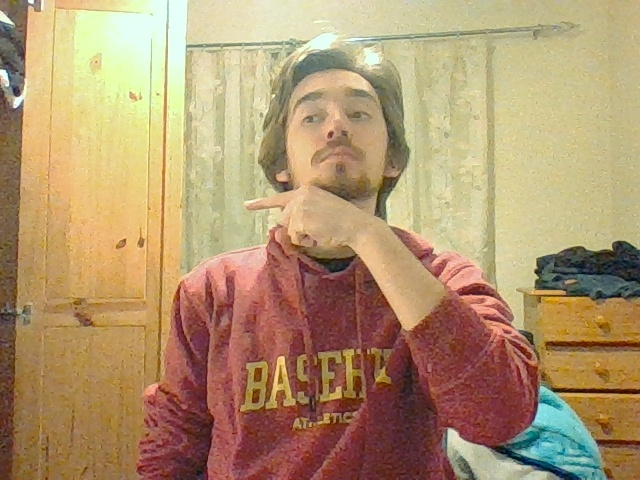son: (239, 185, 333, 242)
